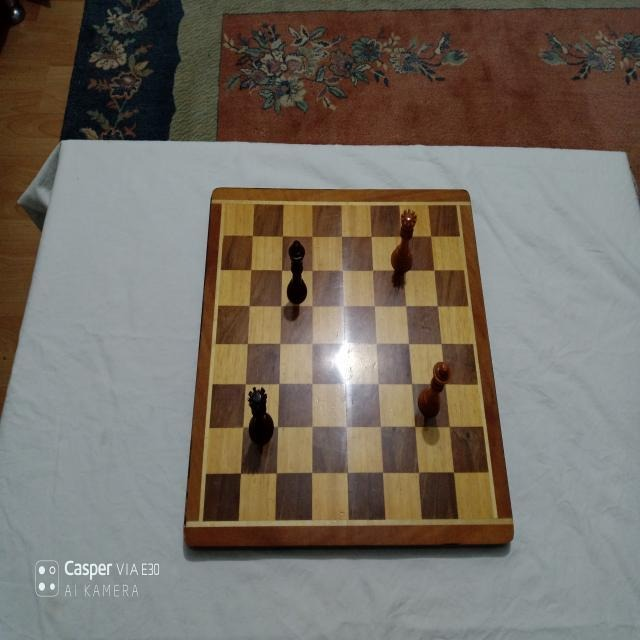black-king: (286, 239, 307, 305)
black-queen: (246, 385, 274, 446)
white-king: (416, 360, 451, 418)
white-queen: (390, 207, 418, 273)
